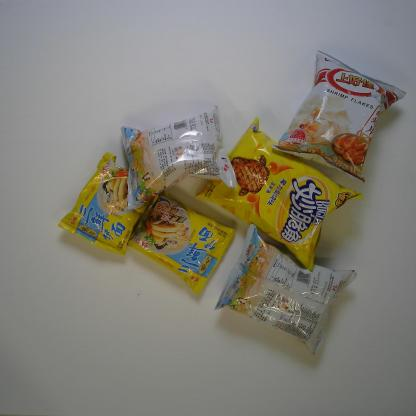Instant Noodles: (126, 193, 236, 296), (57, 151, 152, 258)
Puffed Food: (188, 116, 364, 272), (213, 222, 359, 358), (270, 49, 407, 185), (120, 104, 237, 212)
